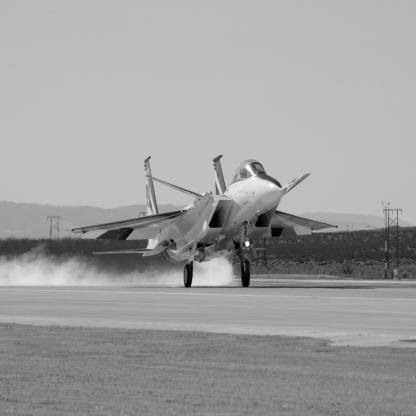F15: (68, 155, 339, 288)
